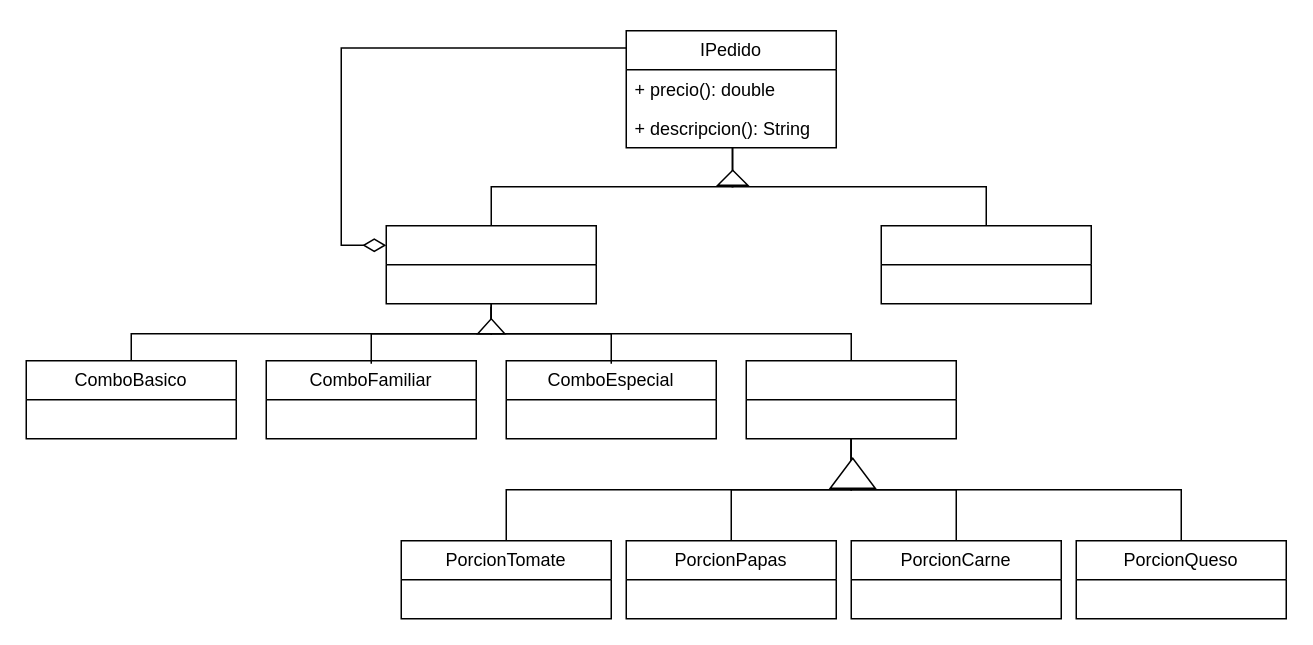
Image size: 1313x645. Some labels were removed from this diagram. Each missing label, with the centre of its shape:
"Combo" belongs at [490,264].
"Pedido" belongs at [985,264].
"PorcionAdicional" belongs at [850,399].
